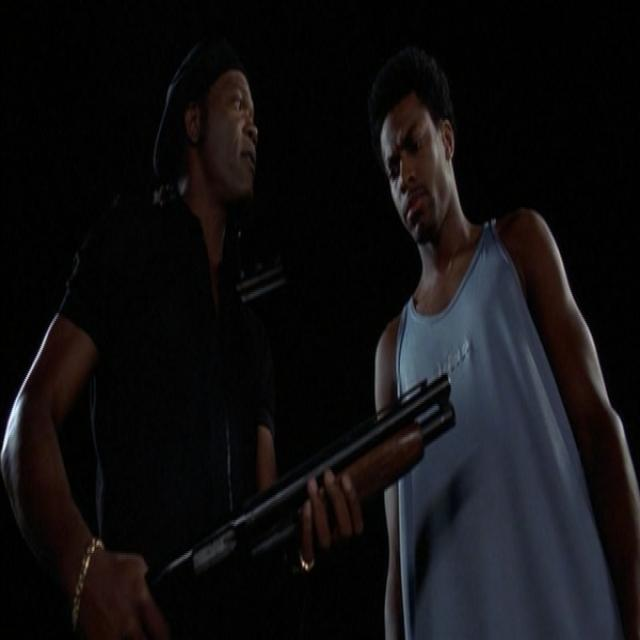rifle: (152, 372, 461, 633)
